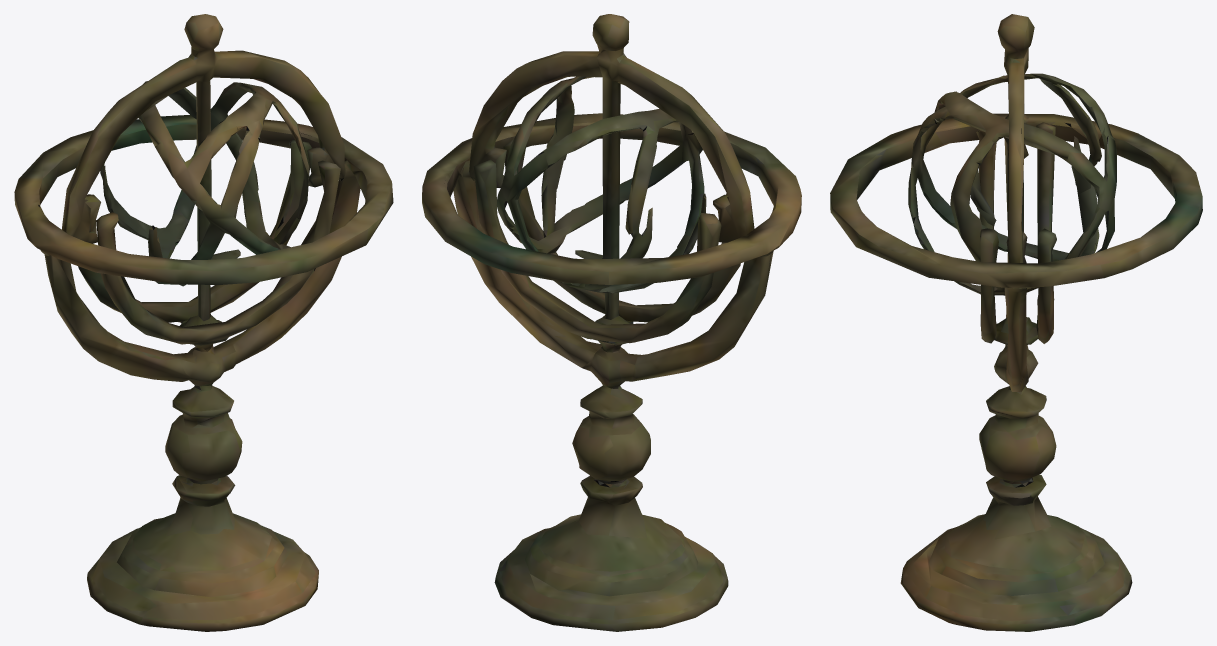
Rendered from plain-bronze-armillary-v001.glb.
3 renders of one model, left to right at view 1: azimuth 30°, elevation 25°; view 2: azimuth 150°, elevation 25°; view 3: azimuth 270°, elevation 25°, orthographic.
Parts seen in each view (by area): view 1: plain-bronze-armillary; view 2: plain-bronze-armillary; view 3: plain-bronze-armillary.
Boxes of the visible parts, x1=… form: plain-bronze-armillary: x1=14, y1=14, x2=393, y2=631; plain-bronze-armillary: x1=422, y1=14, x2=801, y2=631; plain-bronze-armillary: x1=830, y1=14, x2=1202, y2=631.
Bounding box in the file's own units: 0.5708 × 0.9293 × 0.5518.
1 material, 1 textured.
